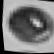correct: (0, 2, 54, 49)
